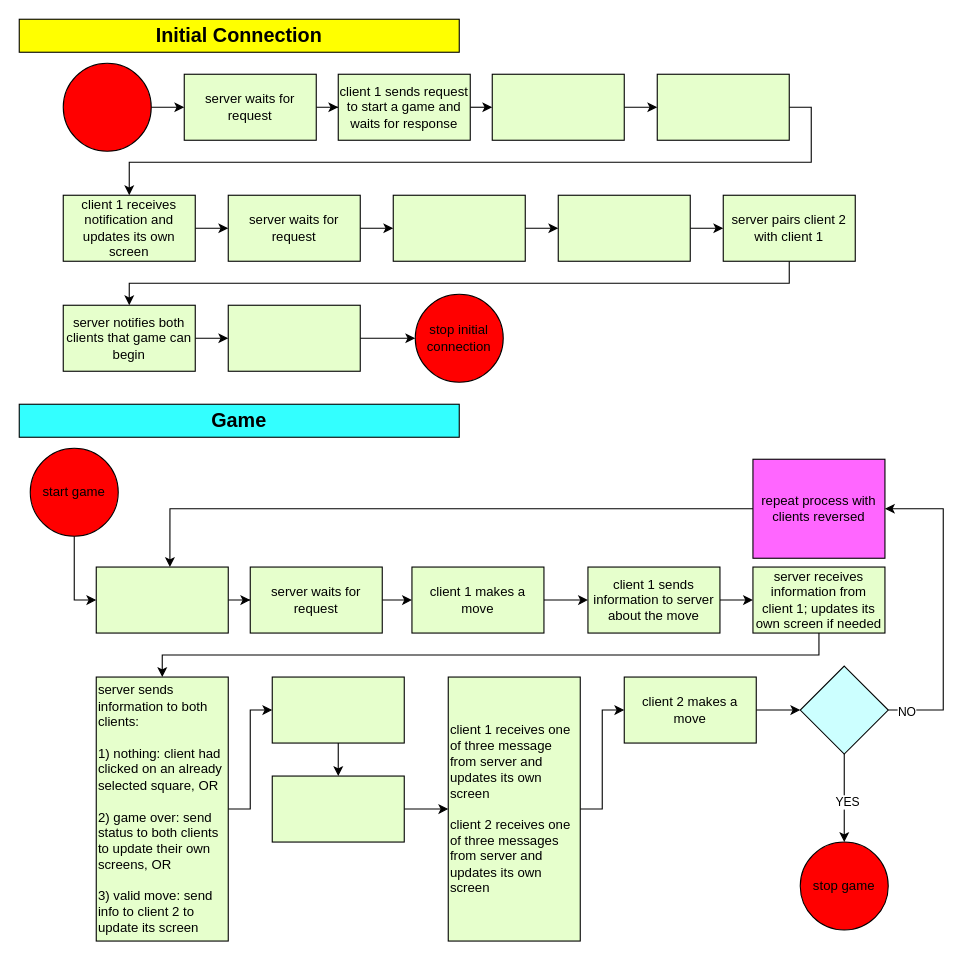
The diagram is 971 pixels wide and 960 high, and some of its shapes have lost their labels. Here are the shapes that lost their labels. From the top down, the centre of each, then its label:
At (106,106): "start initial connection".
At (557,106): "server processes request from client 1".
At (722,106): "server puts client 1 on waiting list and notifies client 1".
At (458,227): "client 2 sends request to start a game and waits for response".
At (623,227): "server processes request from client 2".
At (293,337): "game begins".
At (161,599): "server blocks client 2".
At (337,709): "server blocks client 1".
At (843,709): "game over".
At (337,808): "server unblocks client 2".
